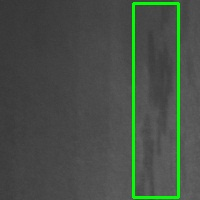inclusion: (133, 3, 178, 197)
